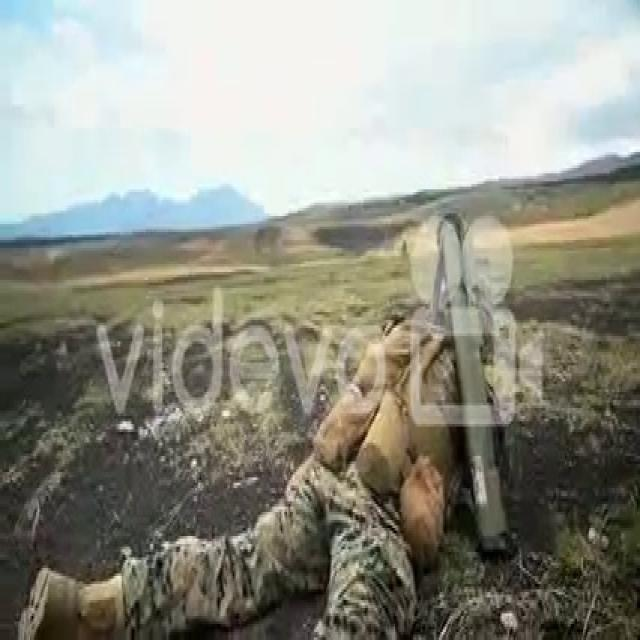bazooka: (432, 204, 524, 569)
